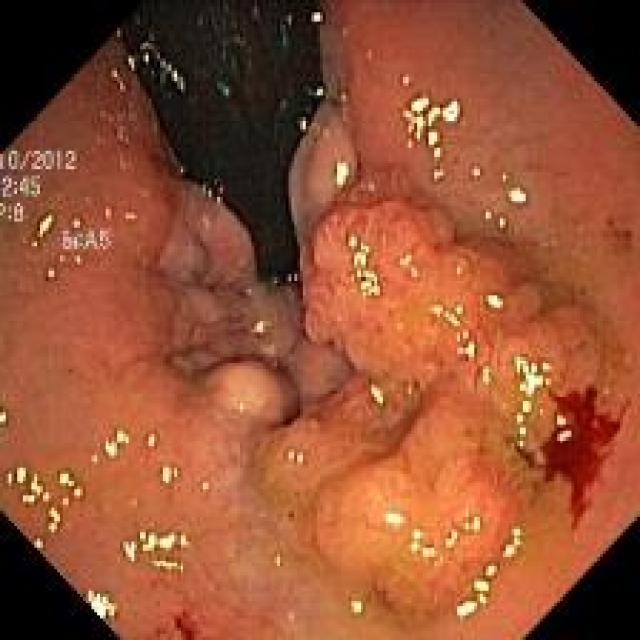Polyps: (304, 198, 600, 608), (158, 180, 301, 374), (159, 180, 256, 291), (289, 101, 358, 251), (208, 361, 300, 426), (284, 337, 352, 407), (159, 219, 215, 286)
